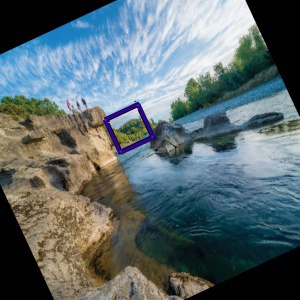square: (101, 102, 157, 156)
